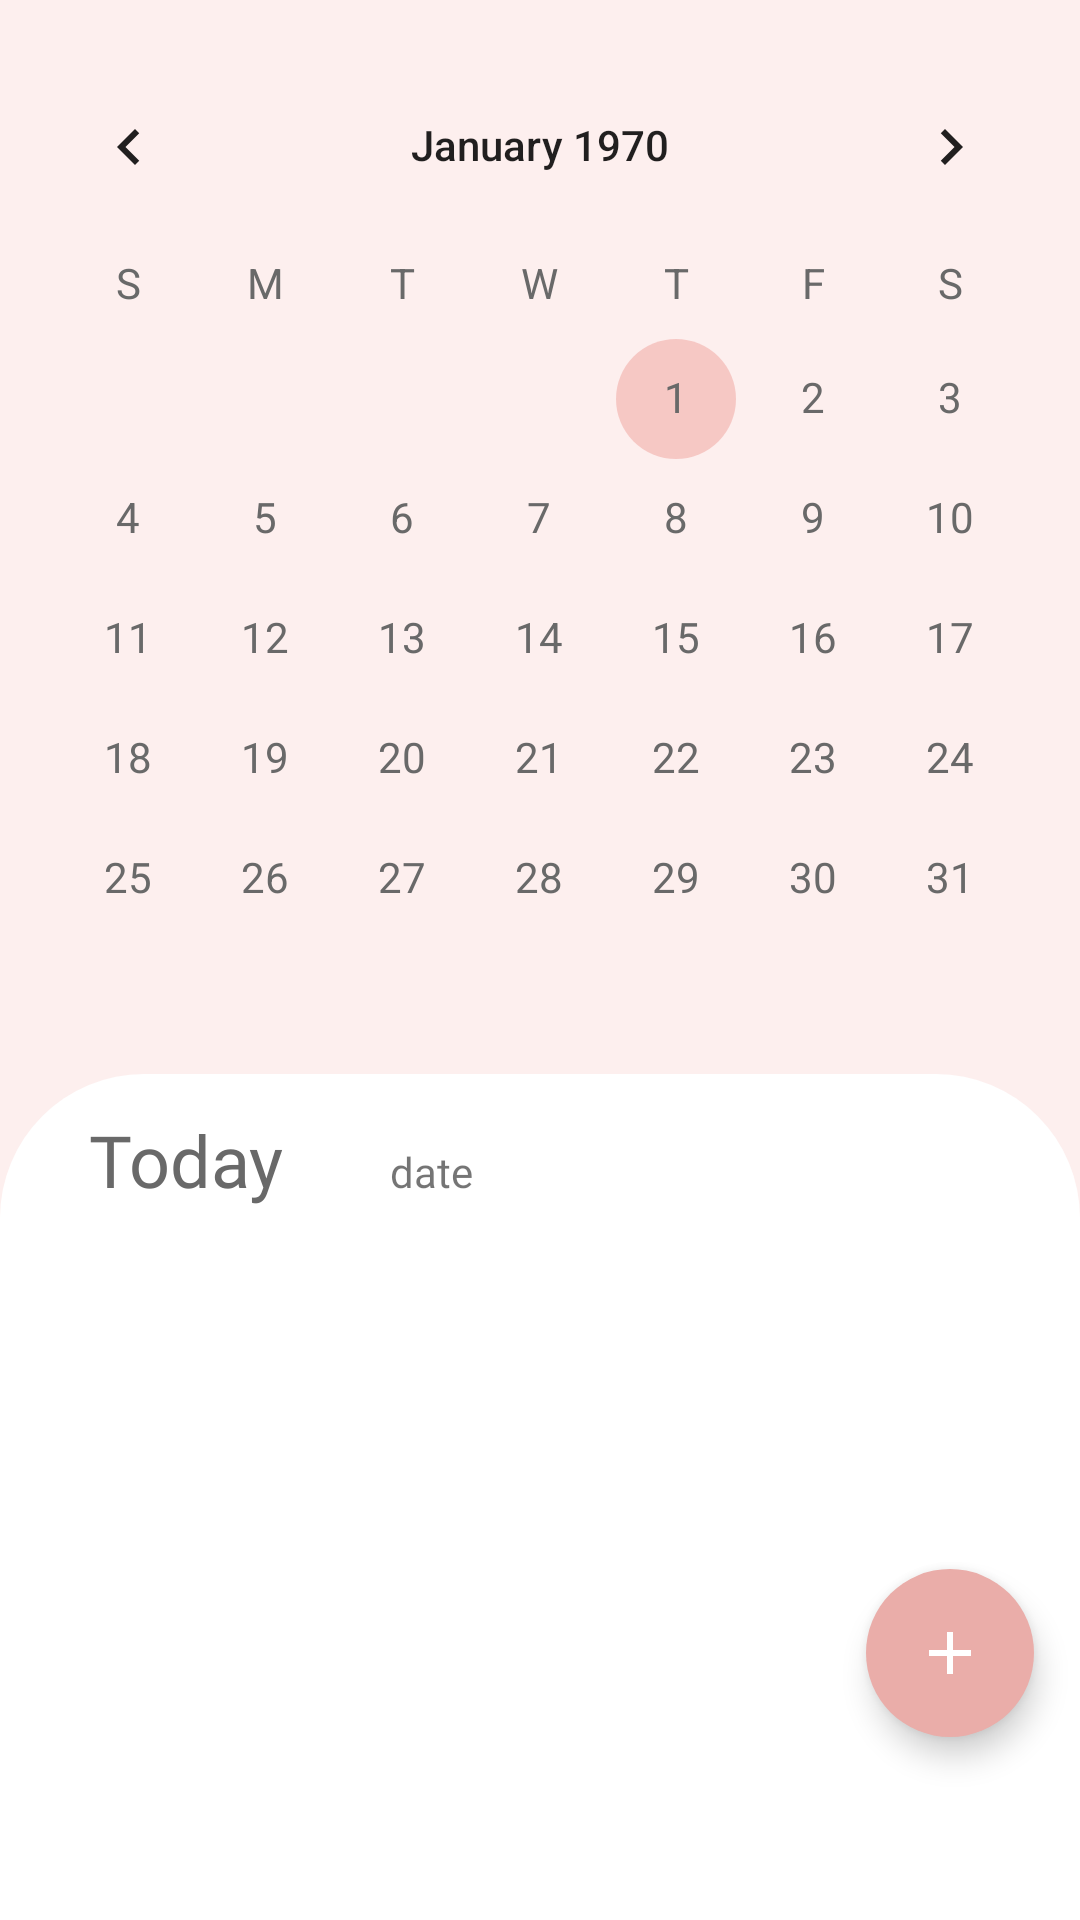

Icon click points for this 1080 x 1920 phone screenshot, format (x,y):
add: (950,1653)
